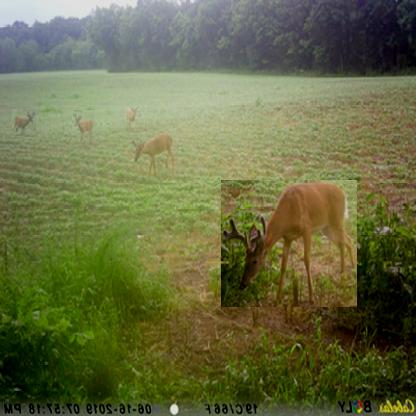Deer: (221, 180, 357, 307), (131, 133, 176, 179), (72, 110, 94, 146), (12, 109, 36, 137), (124, 106, 139, 133)
